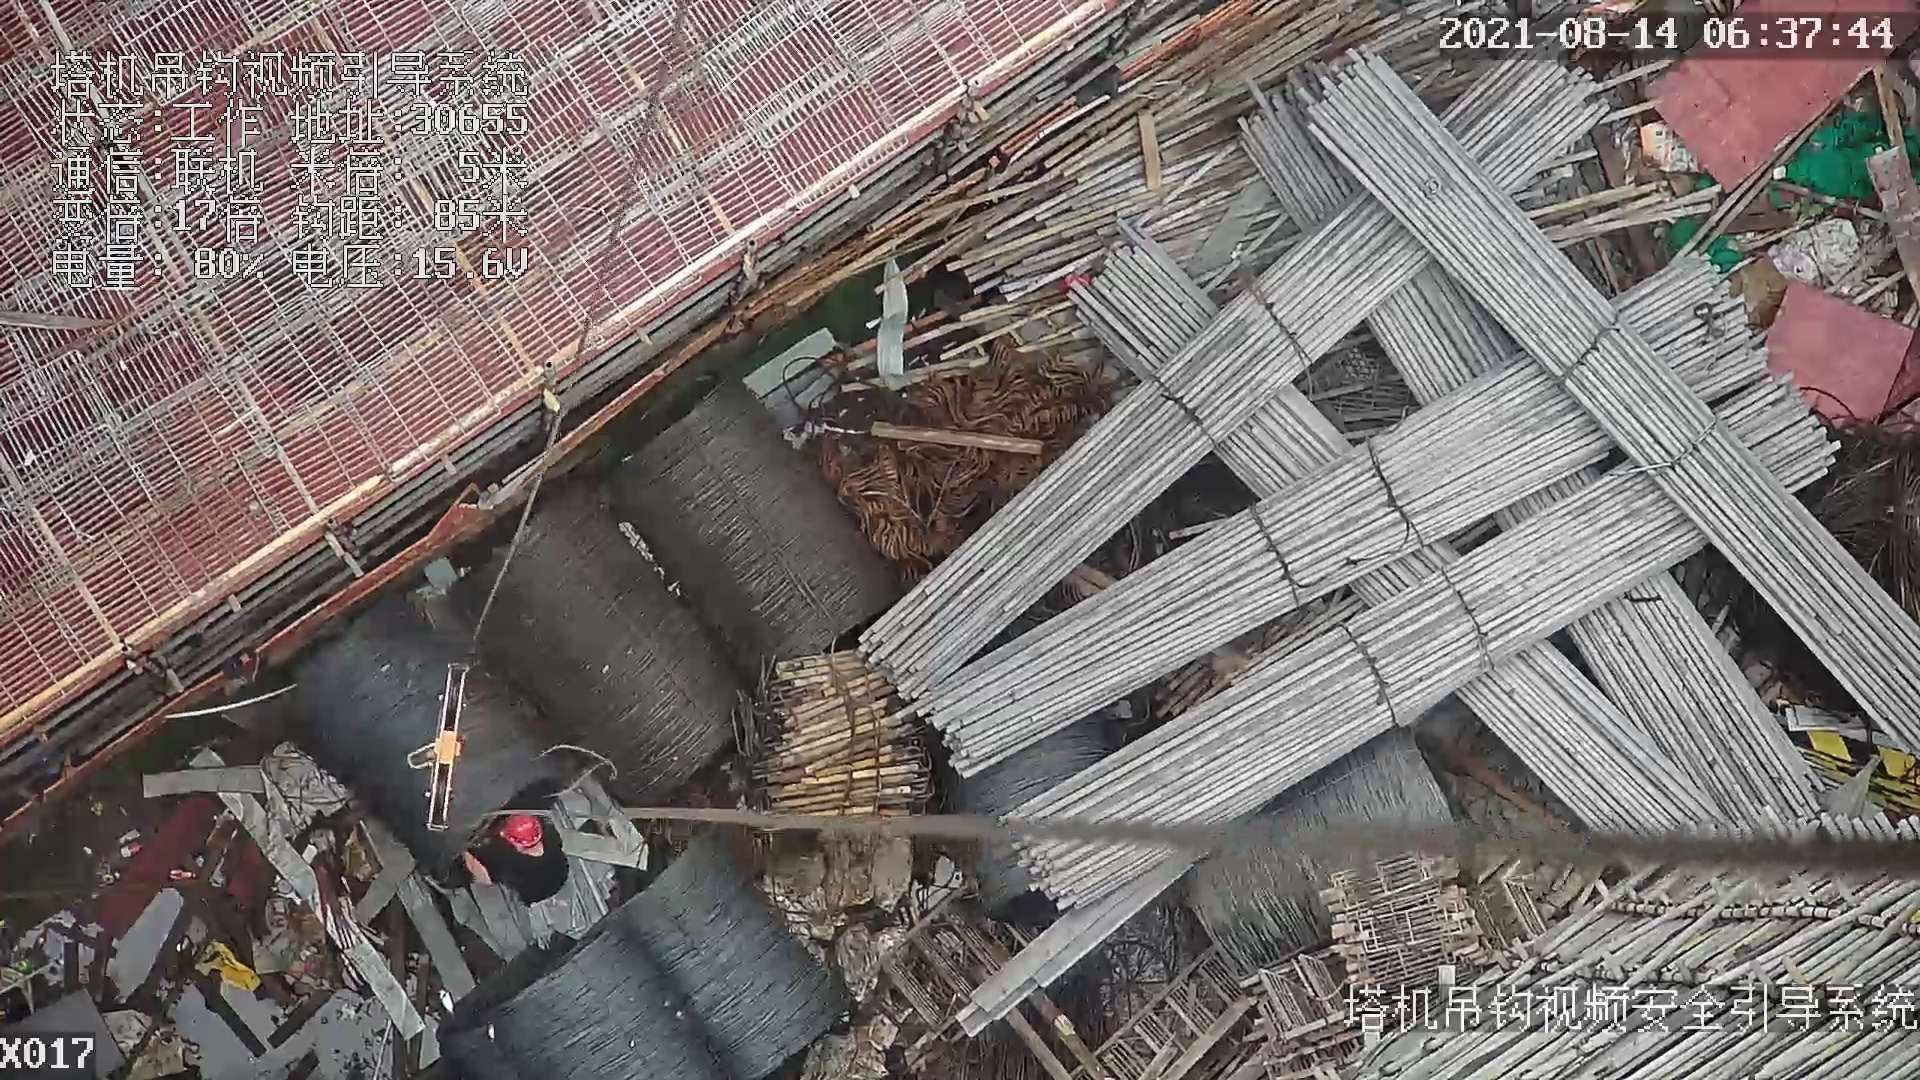helmet: (500, 812, 553, 853)
hook: (404, 653, 470, 831)
person: (456, 818, 577, 906)
scaffold: (947, 53, 1920, 831), (705, 636, 949, 813)
